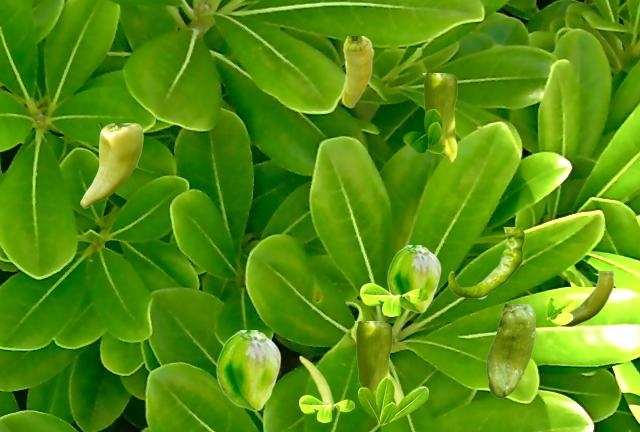green_chili: (448, 227, 524, 298), (80, 123, 142, 207), (216, 330, 280, 410), (486, 304, 534, 397), (387, 245, 440, 312), (558, 271, 614, 325), (422, 73, 456, 161), (354, 321, 391, 395), (341, 36, 373, 107), (299, 355, 333, 409), (390, 373, 404, 404)
